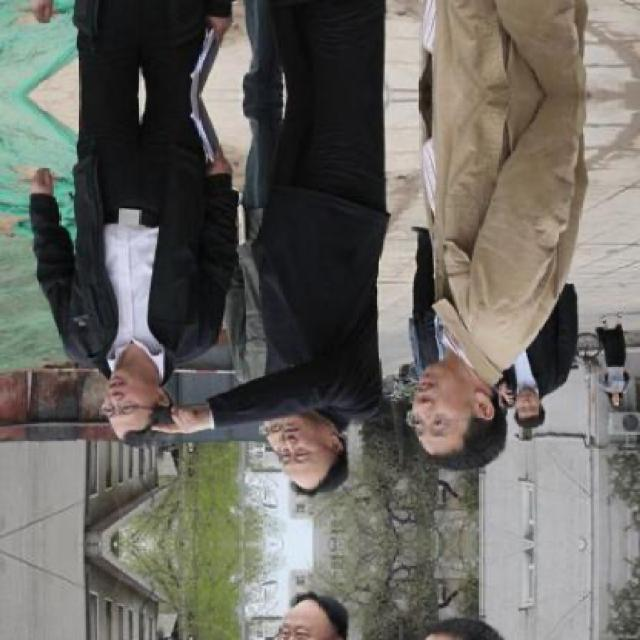sin casco: (399, 343, 528, 479), (252, 390, 368, 518), (67, 344, 192, 460)
